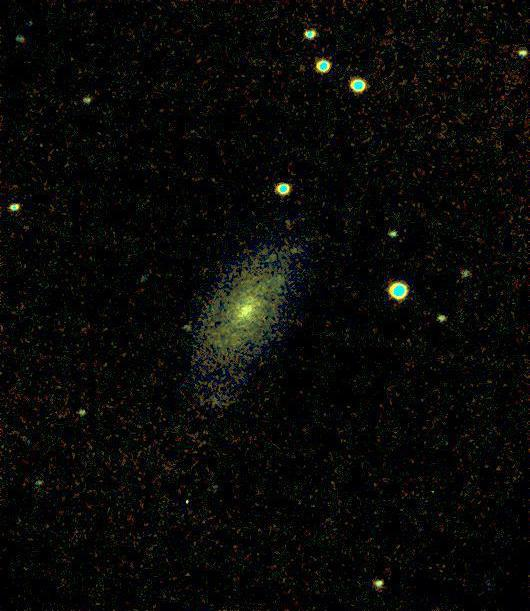star: (247, 290, 277, 320)
